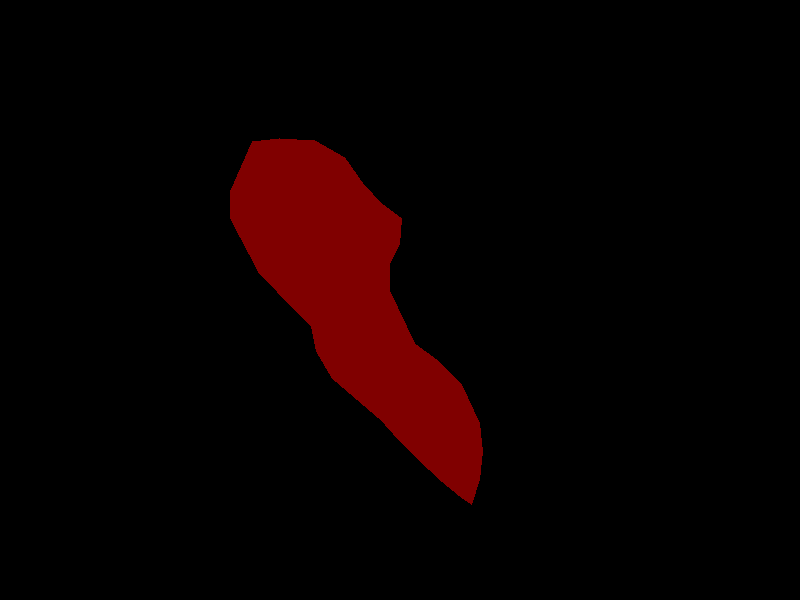fire: (230, 138, 482, 504)
